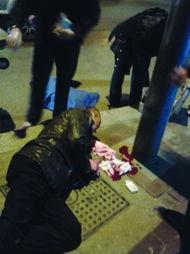Fall-Detected: (0, 100, 106, 252)
